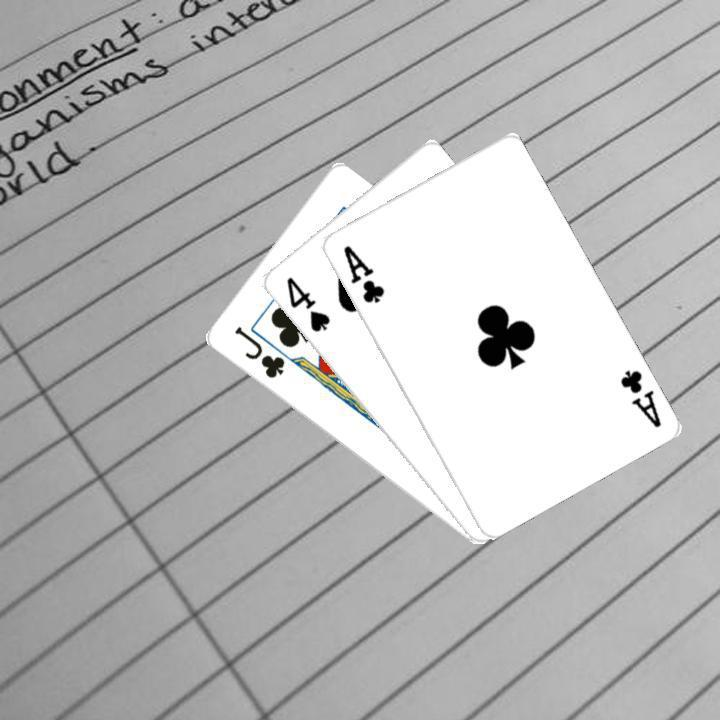4: (281, 272, 332, 334)
A: (338, 240, 386, 305), (615, 365, 663, 430)
J: (229, 322, 287, 381)
